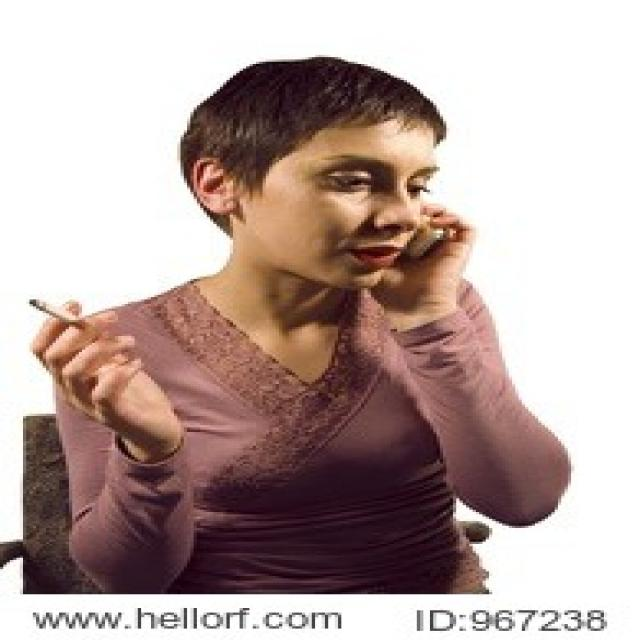smoke: (18, 296, 93, 334)
